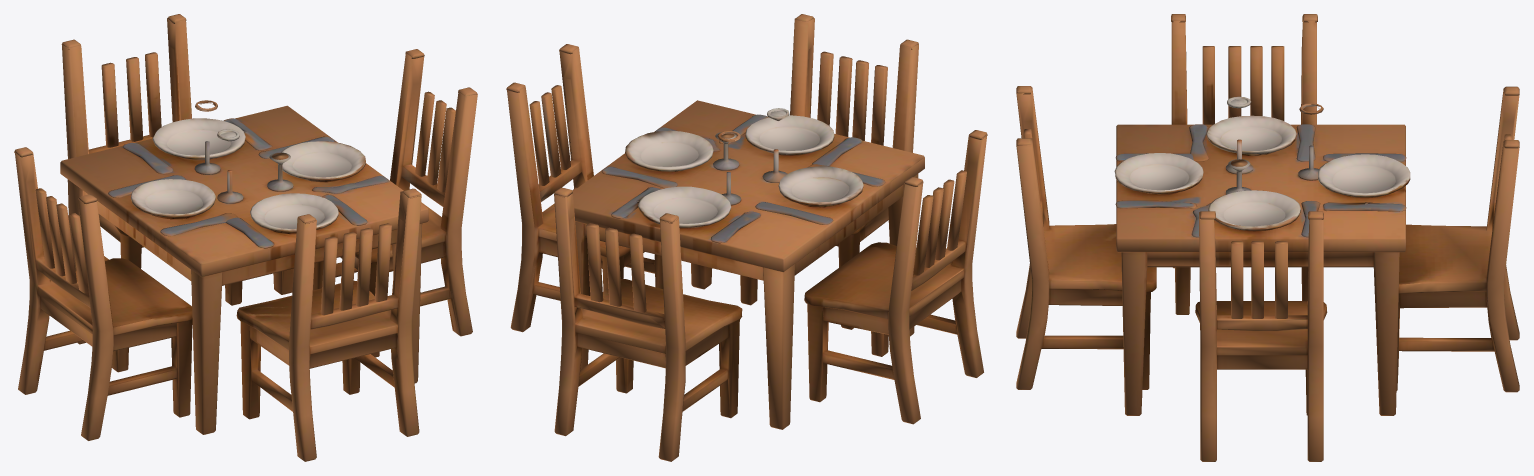
The model's file is dinner_table_f72cb9ee_v3.glb.
3 renders of one model, left to right at view 1: azimuth 30°, elevation 25°; view 2: azimuth 150°, elevation 25°; view 3: azimuth 270°, elevation 25°, orthographic. The views are drawn at different scales.
Parts seen in each view (by area): view 1: material; view 2: material; view 3: material.
Part boxes in pixels (box(x1,y1,x2,y2)): material: box(14, 14, 477, 461); material: box(506, 14, 987, 461); material: box(1016, 14, 1519, 461).
Size of the model in its own units: 1.82 by 1.04 by 1.9.
1 material, 1 textured.
